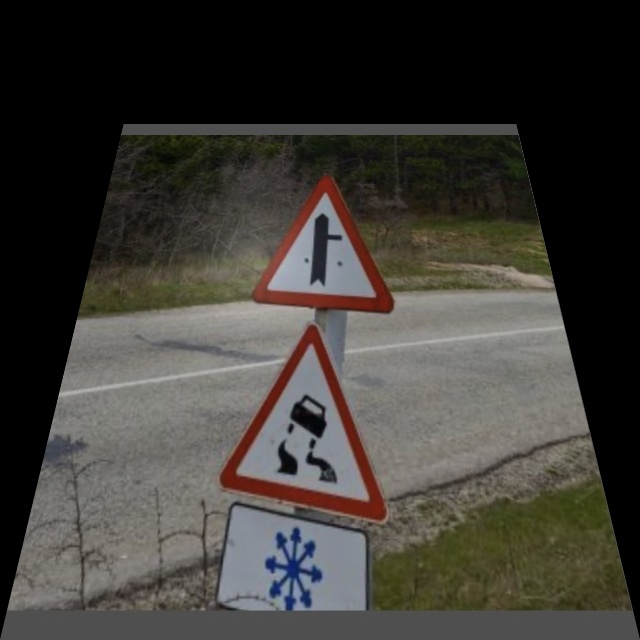Slippery_Road: (220, 322, 399, 505)
